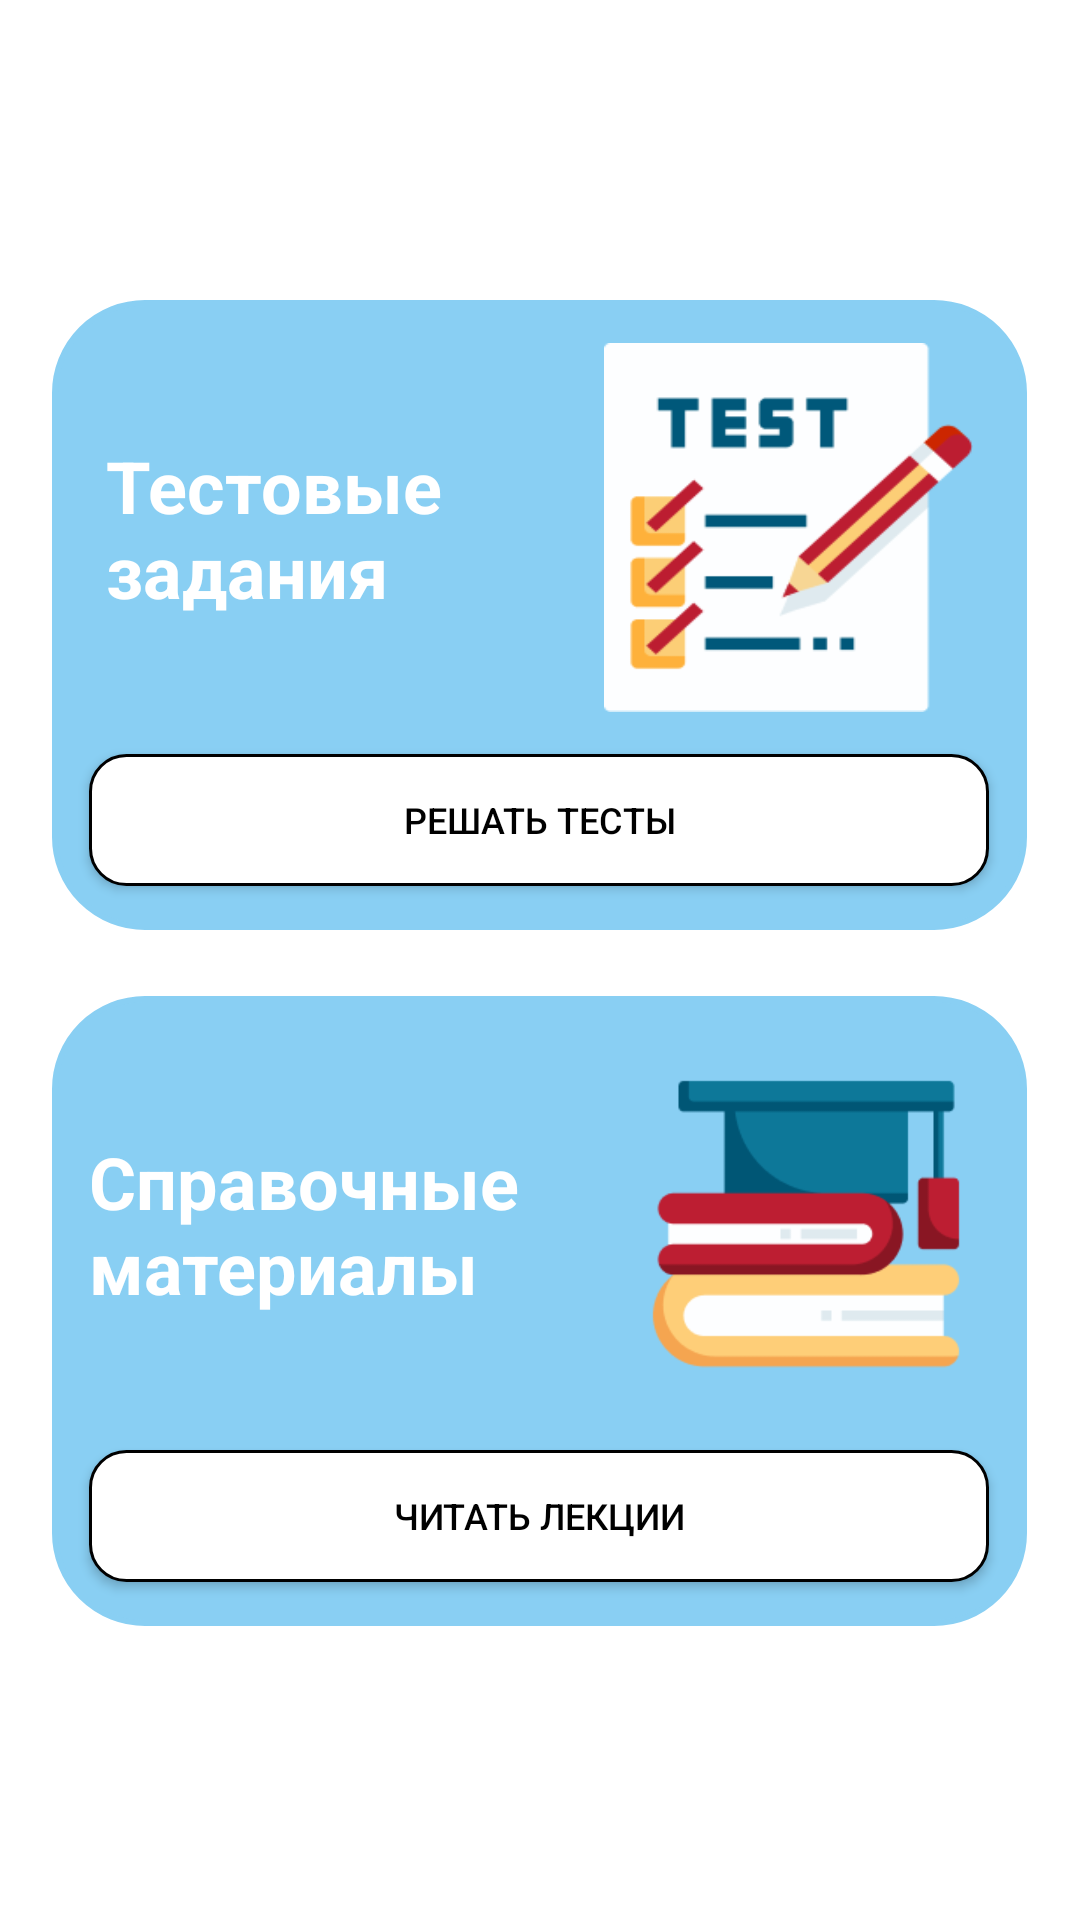

Icon bounding boxes for this 1080x1920 phone screenshot, format (x1, y1, x2, y2):
teory: (652, 1081, 960, 1368)
